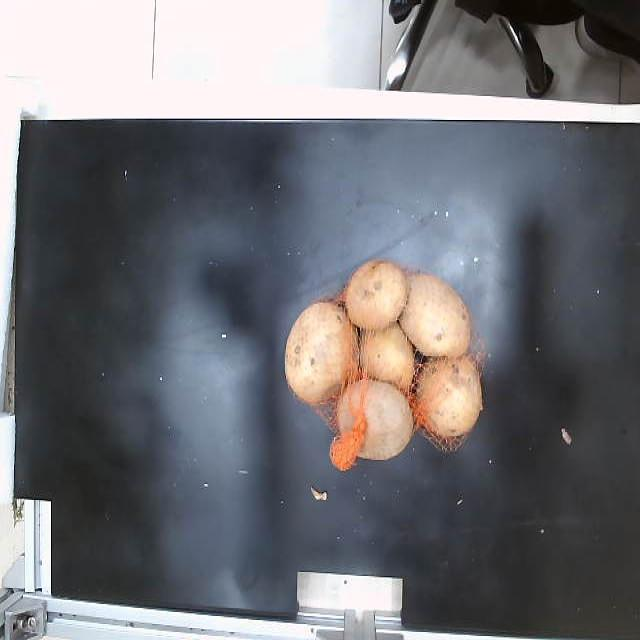potato: (330, 380, 414, 469), (285, 302, 356, 404), (400, 275, 471, 357), (416, 357, 482, 438), (345, 260, 408, 329), (360, 323, 415, 391)
